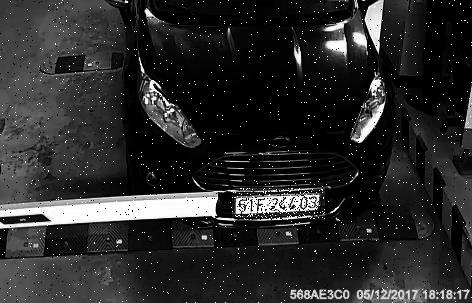License-plate: (233, 189, 326, 221)
